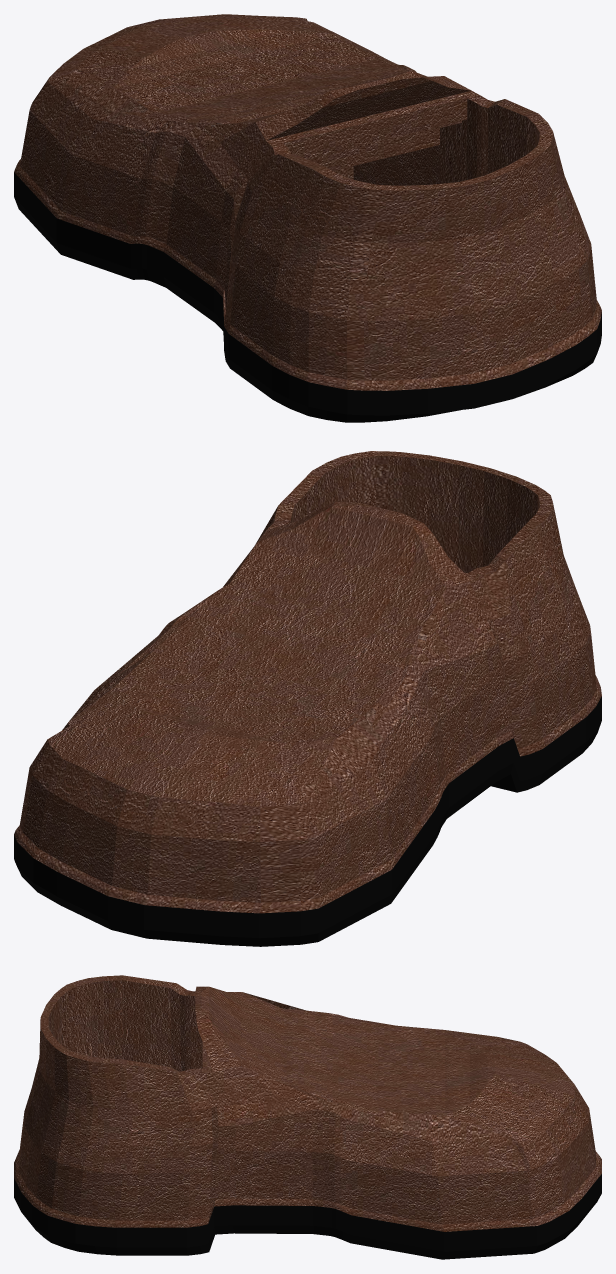
The model's file is zapato2.fbx.
3 views of the same model, one above another, from view 1: azimuth 30°, elevation 25°; view 2: azimuth 150°, elevation 25°; view 3: azimuth 270°, elevation 25° (orthographic). The views are drawn at different scales.
Visible parts, largest first — view 1: shoe2:Mesh; view 2: shoe2:Mesh; view 3: shoe2:Mesh.
Part boxes in pixels (left/top/right/bottom): shoe2:Mesh: left=14, top=14, right=601, bottom=422; shoe2:Mesh: left=14, top=451, right=601, bottom=946; shoe2:Mesh: left=14, top=975, right=601, bottom=1259.
Bounding box in the file's own units: 1.84 × 1.28 × 3.48.
3 materials, 1 textured.
